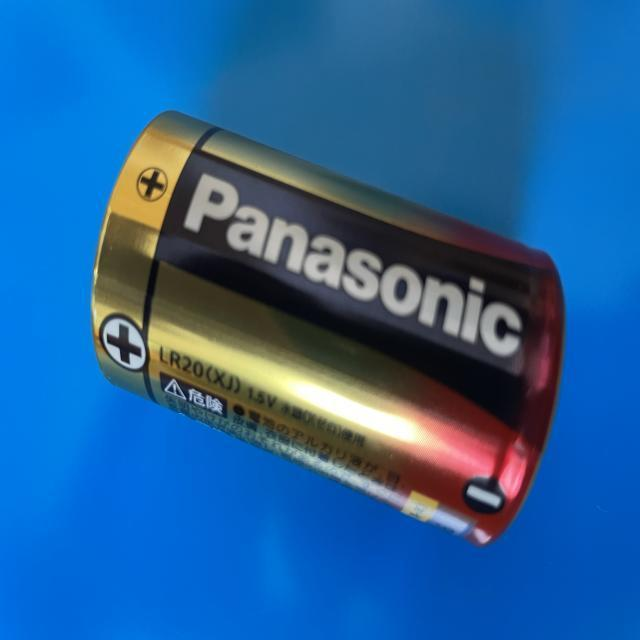Hazard: (89, 107, 566, 551)
